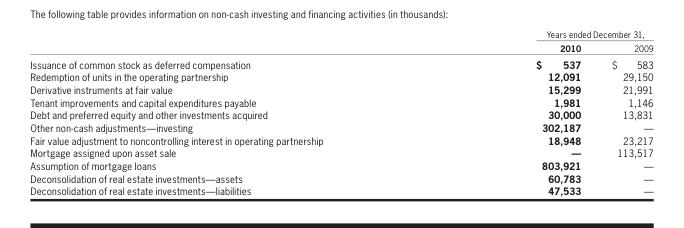table: (29, 28, 652, 196)
table column: (29, 28, 428, 196), (428, 28, 595, 196), (595, 28, 652, 196)
table column header: (29, 28, 652, 55)
table row: (29, 40, 652, 55), (29, 55, 652, 70), (29, 82, 652, 95), (29, 95, 652, 108), (29, 120, 652, 133), (29, 133, 652, 146), (29, 158, 652, 171), (29, 171, 652, 184), (29, 28, 652, 40), (29, 70, 652, 82), (29, 108, 652, 120), (29, 146, 652, 158), (29, 184, 652, 196)
table spanning cell: (428, 28, 652, 40)
